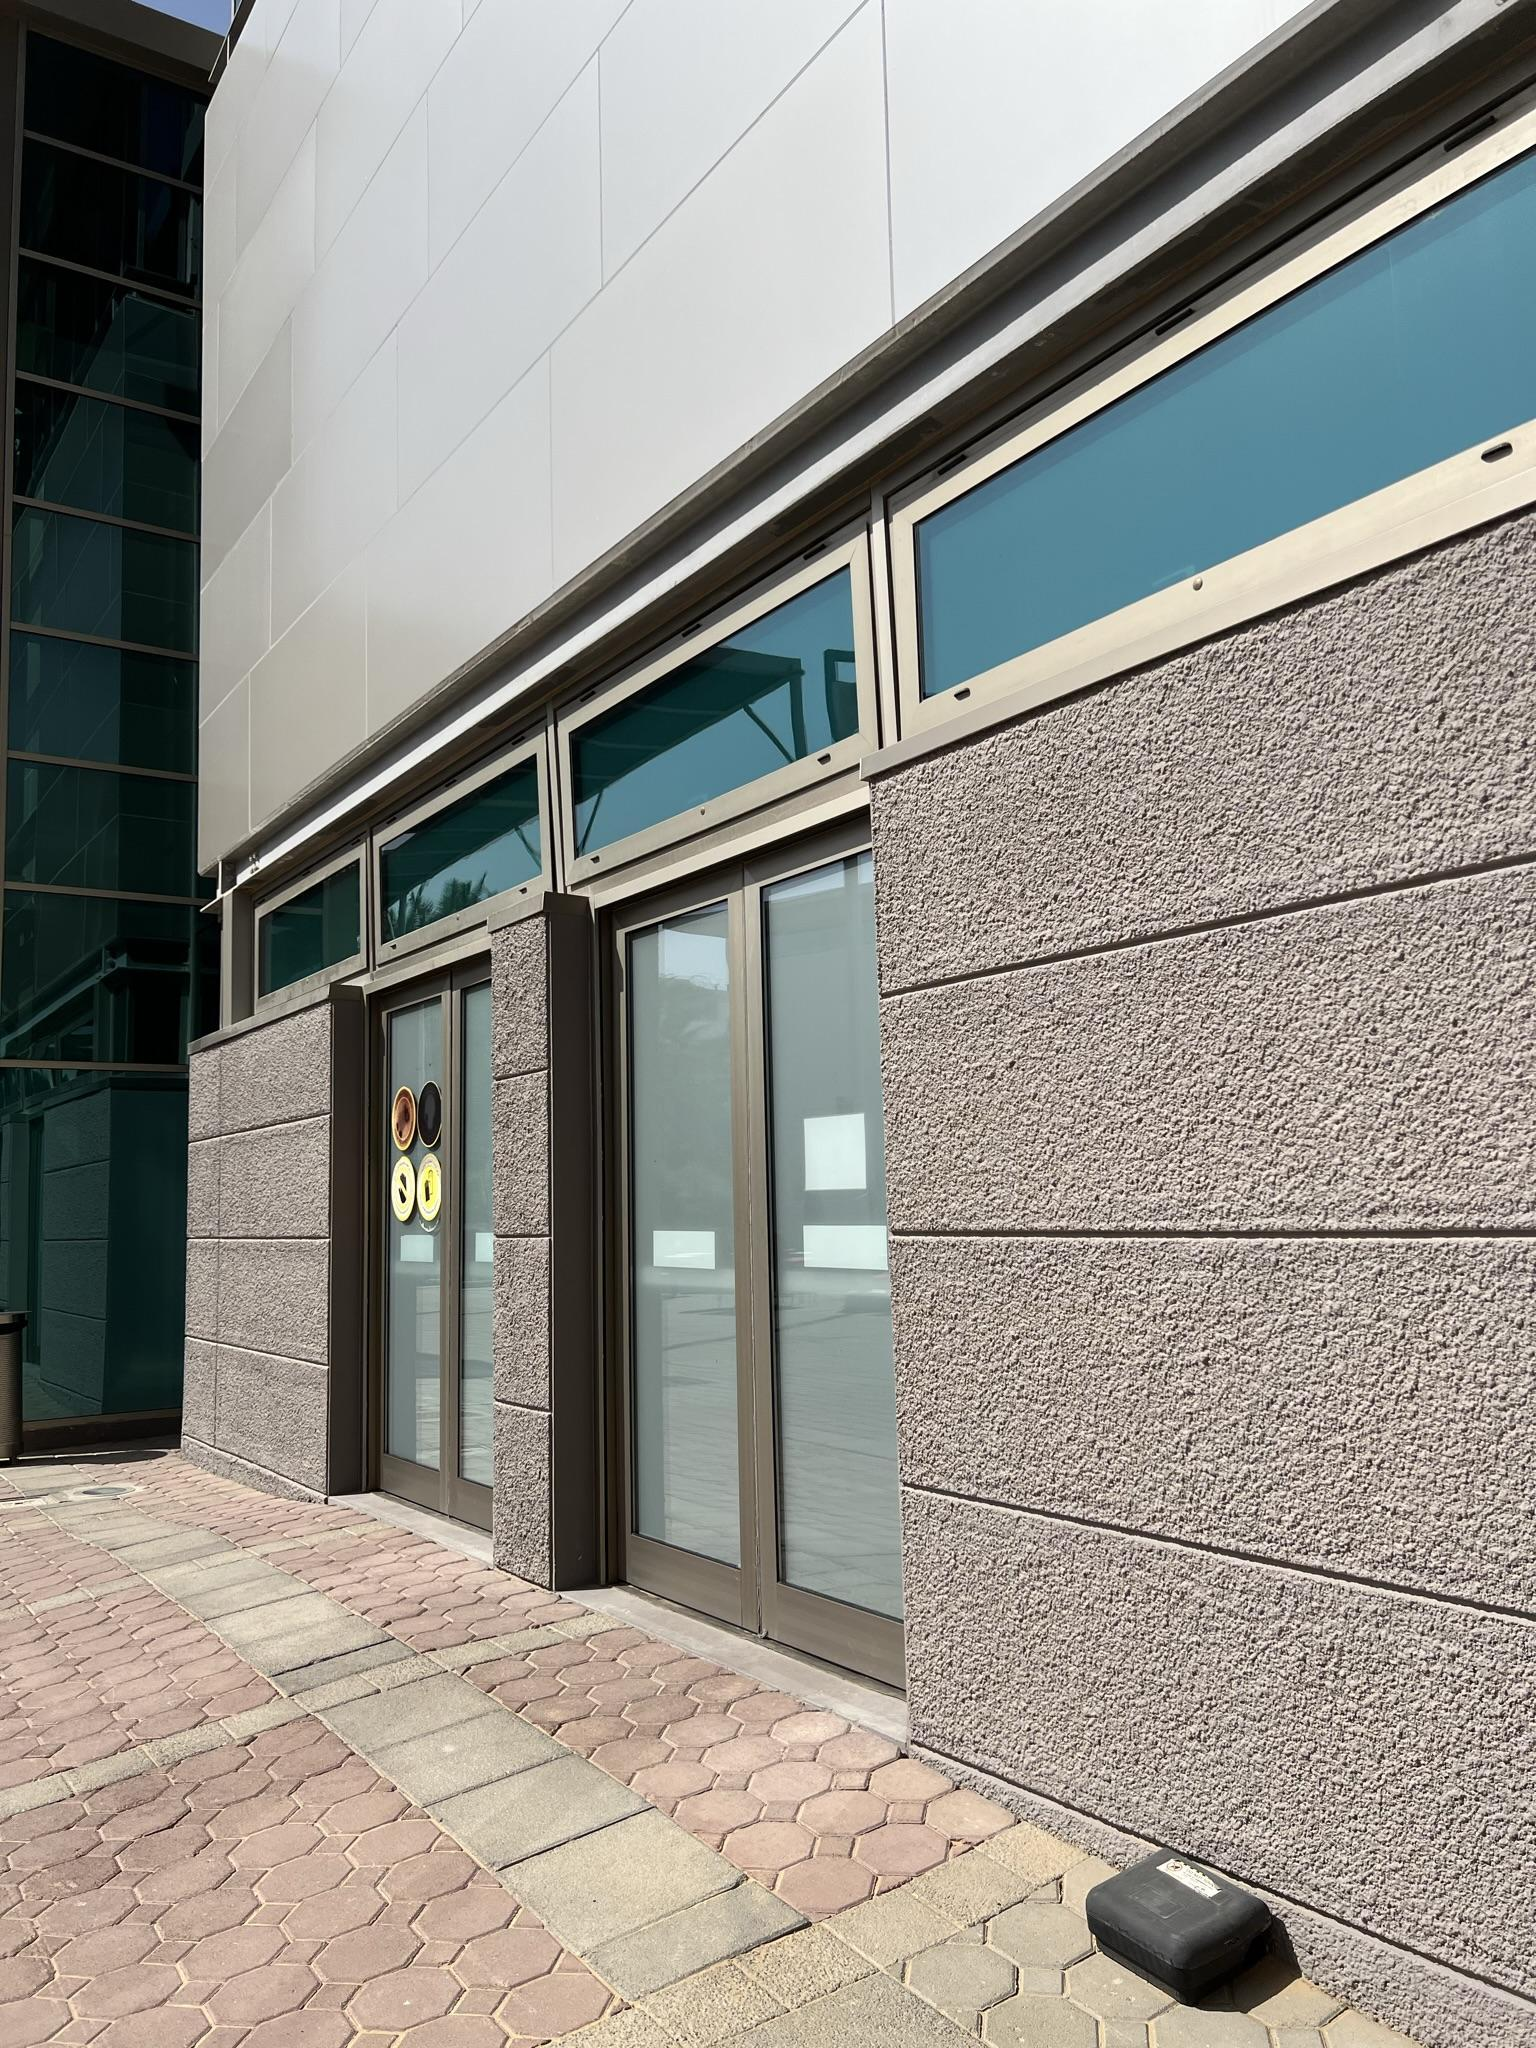door: (742, 842, 925, 1709), (607, 901, 753, 1622), (382, 985, 473, 1522)
